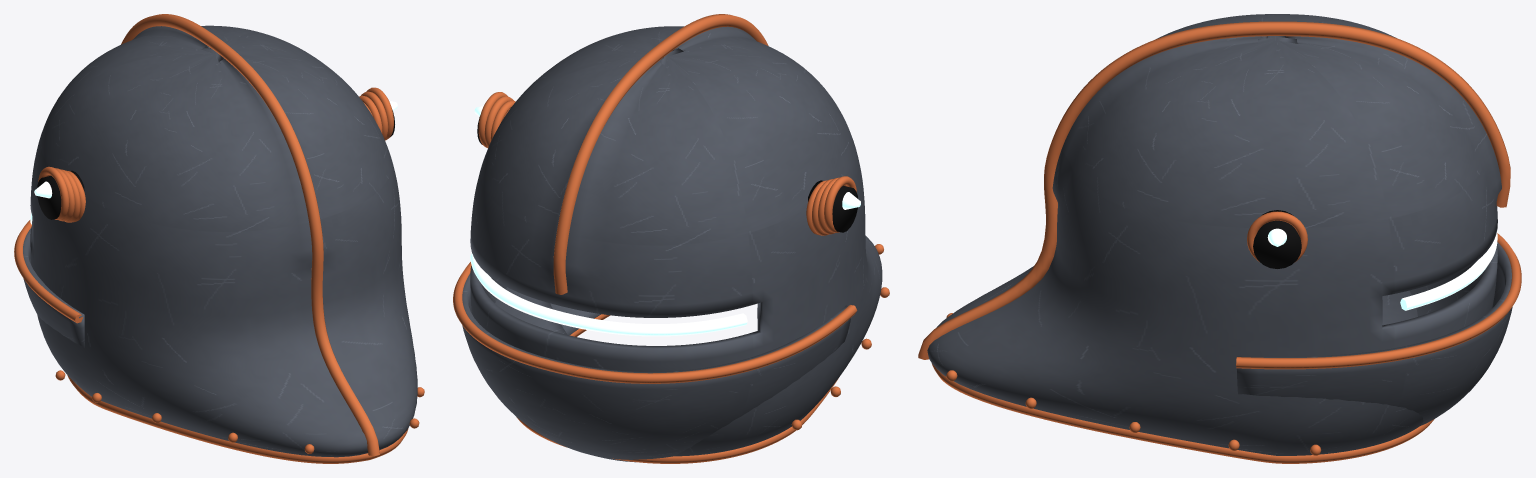
Rendered from casco_celada.glb.
The picture shows the model from 3 angles, left to right: view 1: azimuth 30°, elevation 25°; view 2: azimuth 150°, elevation 25°; view 3: azimuth 270°, elevation 25°; orthographic projection. The views are drawn at different scales.
Visible parts, largest first — view 1: Casco_celada; view 2: Casco_celada; view 3: Casco_celada.
Part boxes in pixels (x1=…): Casco_celada: x1=14, y1=14, x2=424, y2=463; Casco_celada: x1=453, y1=14, x2=889, y2=463; Casco_celada: x1=918, y1=14, x2=1521, y2=463.
Size of the model in its own units: 0.2863 by 0.2743 by 0.372.
Materials: 4 (3 with a texture image).
